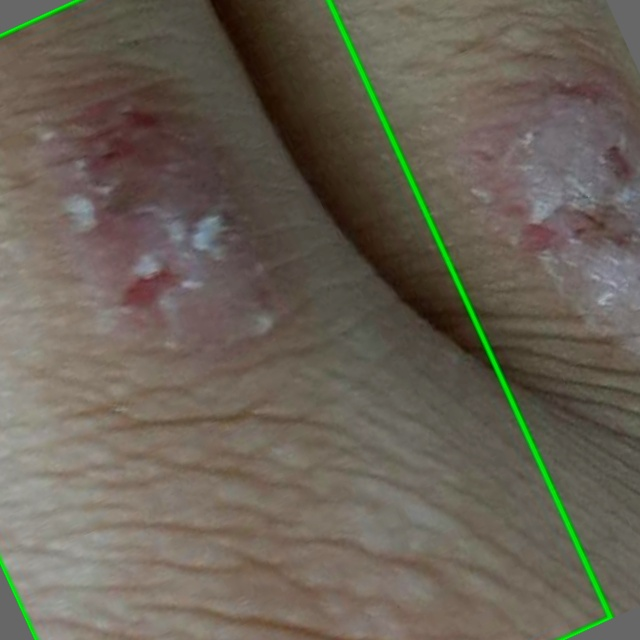Contact Dermatitis: (0, 0, 611, 639)
